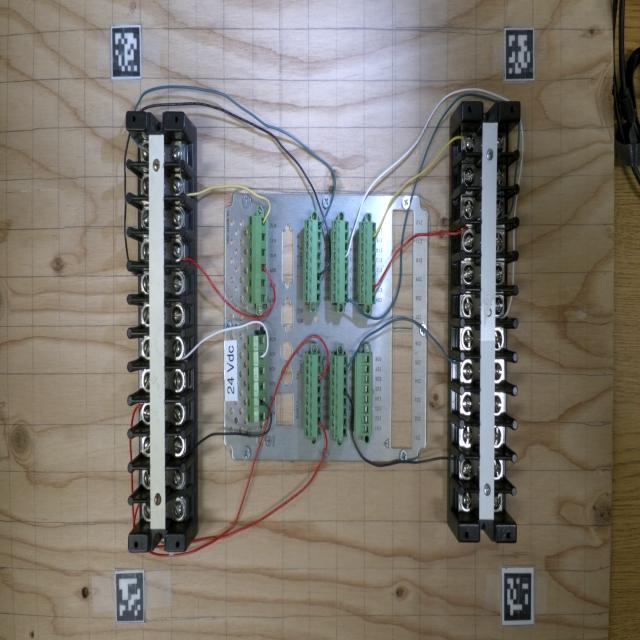Flathead_Block: (127, 111, 186, 551)
Phillips_Block: (459, 102, 520, 542)
Terminal_1: (246, 335, 267, 424), (248, 216, 267, 304)
Terminal_2: (303, 219, 322, 302), (330, 355, 348, 439), (304, 354, 322, 437), (358, 221, 376, 304), (331, 220, 349, 303)
